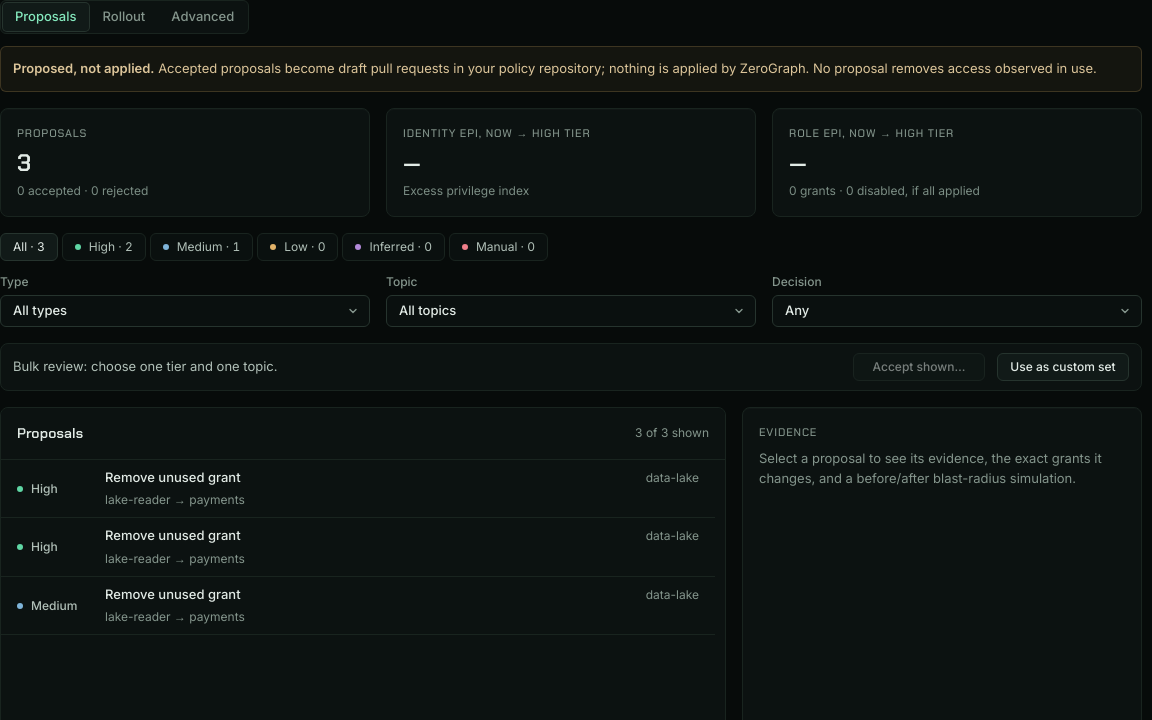
Proposal queue bulk review › uses the shown proposals as the custom set and keeps the Advanced tool
Step 1. Click the button "Use as custom set" → (1063, 367), box [997,353,1129,381]
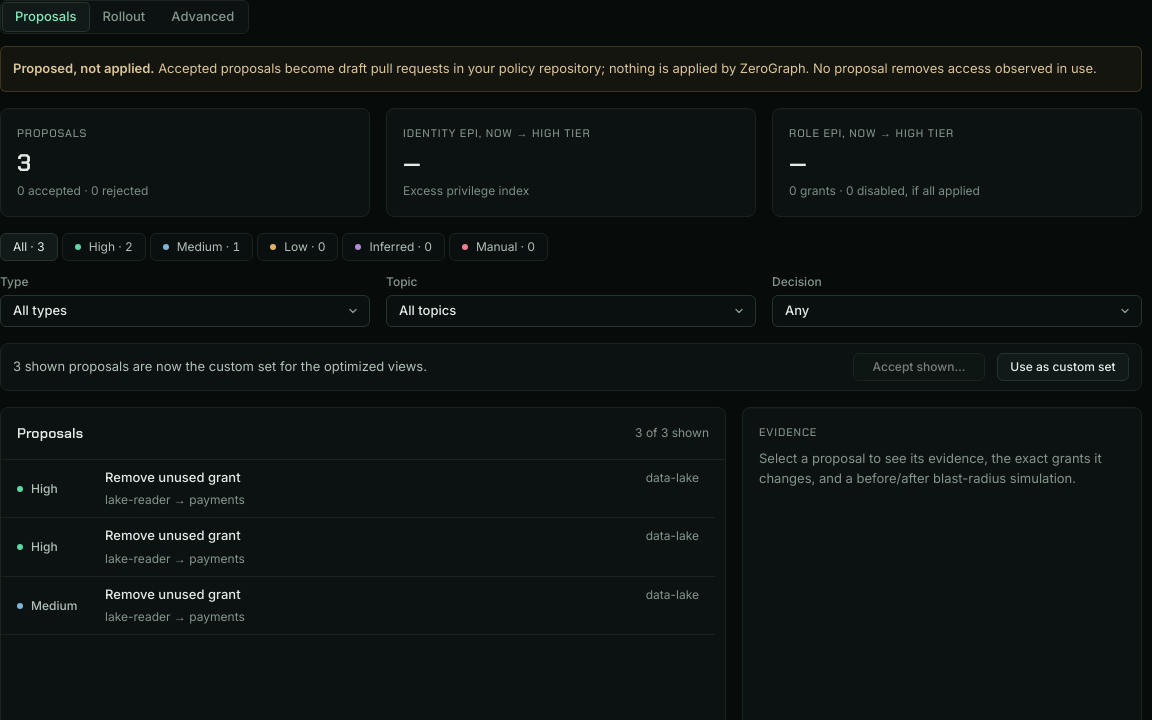
Step 2. Click the button "Advanced" → (203, 17), box [159,3,246,31]
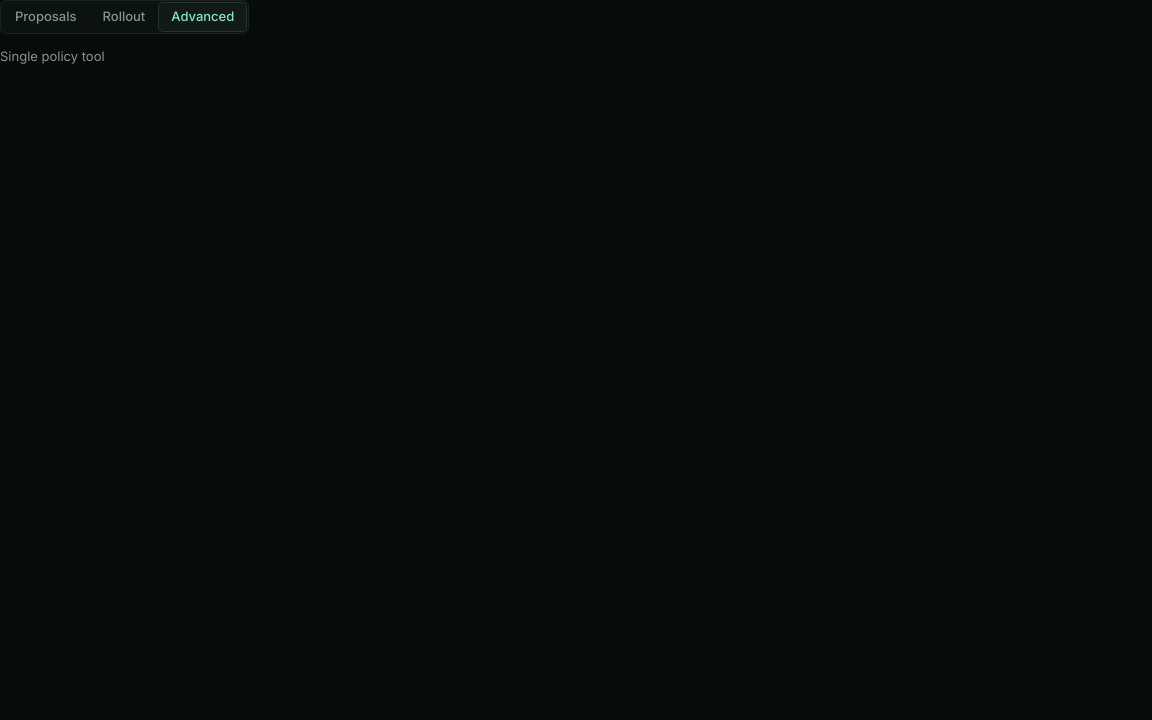
Expected: the text "Single policy tool" is shown, [0,48,105,64]
